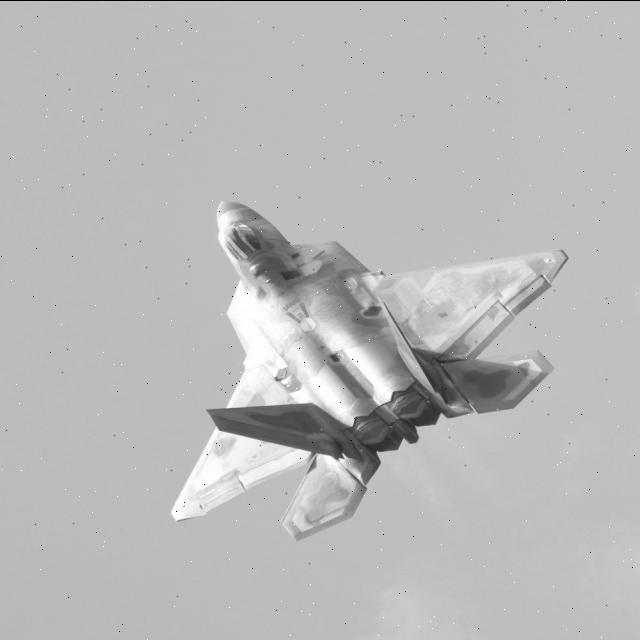F22: (130, 146, 604, 554)
